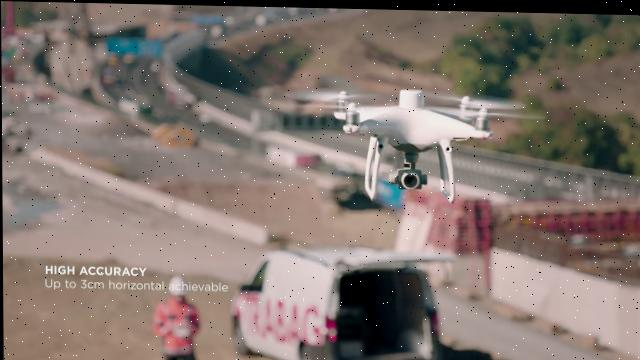drone: (281, 82, 544, 204)
